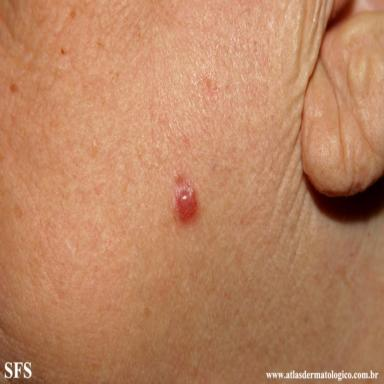basal-cell-carcinoma: (174, 176, 197, 221)
